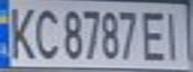7: (78, 6, 103, 60), (118, 7, 142, 61)
8: (57, 4, 84, 61), (100, 7, 121, 61)
C: (27, 3, 60, 61)
E: (139, 7, 172, 62)
I: (157, 7, 190, 61)
K: (3, 2, 39, 61)
